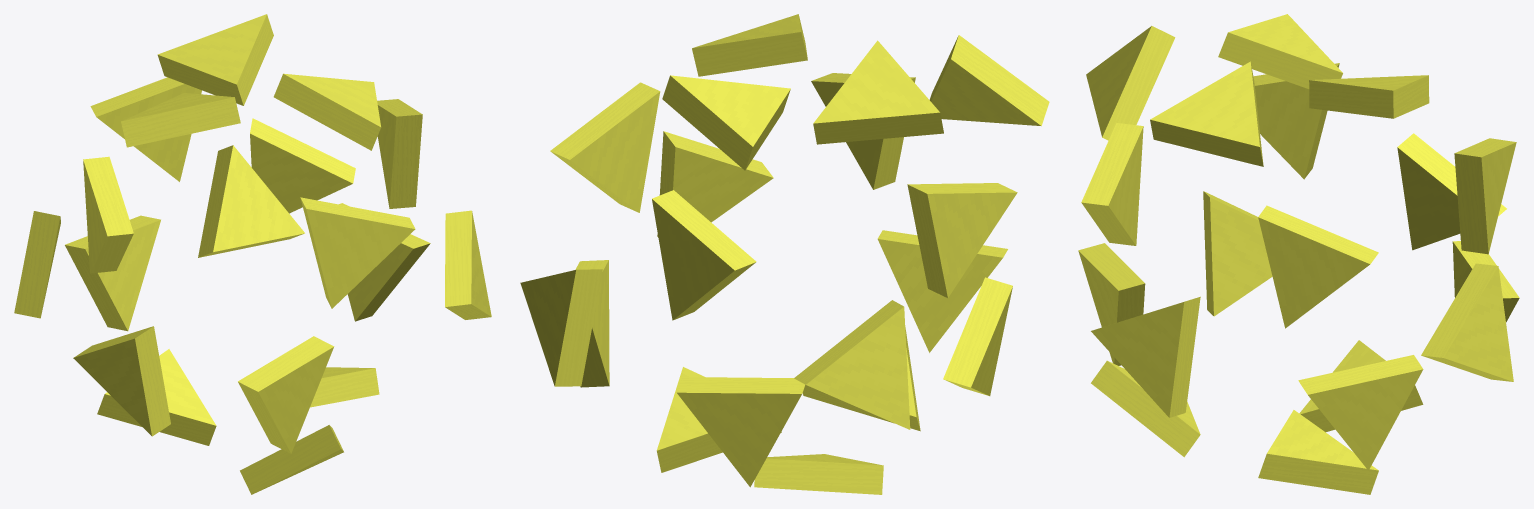
File: qeri.obj
3 renders of one model, left to right at view 1: azimuth 30°, elevation 25°; view 2: azimuth 150°, elevation 25°; view 3: azimuth 270°, elevation 25°, orthographic. The views are drawn at different scales.
Visible parts, largest first — view 1: Cube.002; view 2: Cube.002; view 3: Cube.002.
Part boxes in pixels (left/top/right/bottom): Cube.002: left=14, top=14, right=491, bottom=494; Cube.002: left=520, top=14, right=1049, bottom=494; Cube.002: left=1078, top=14, right=1519, bottom=494.
Bounding box in the file's own units: 1.23 × 1.24 × 1.24.
